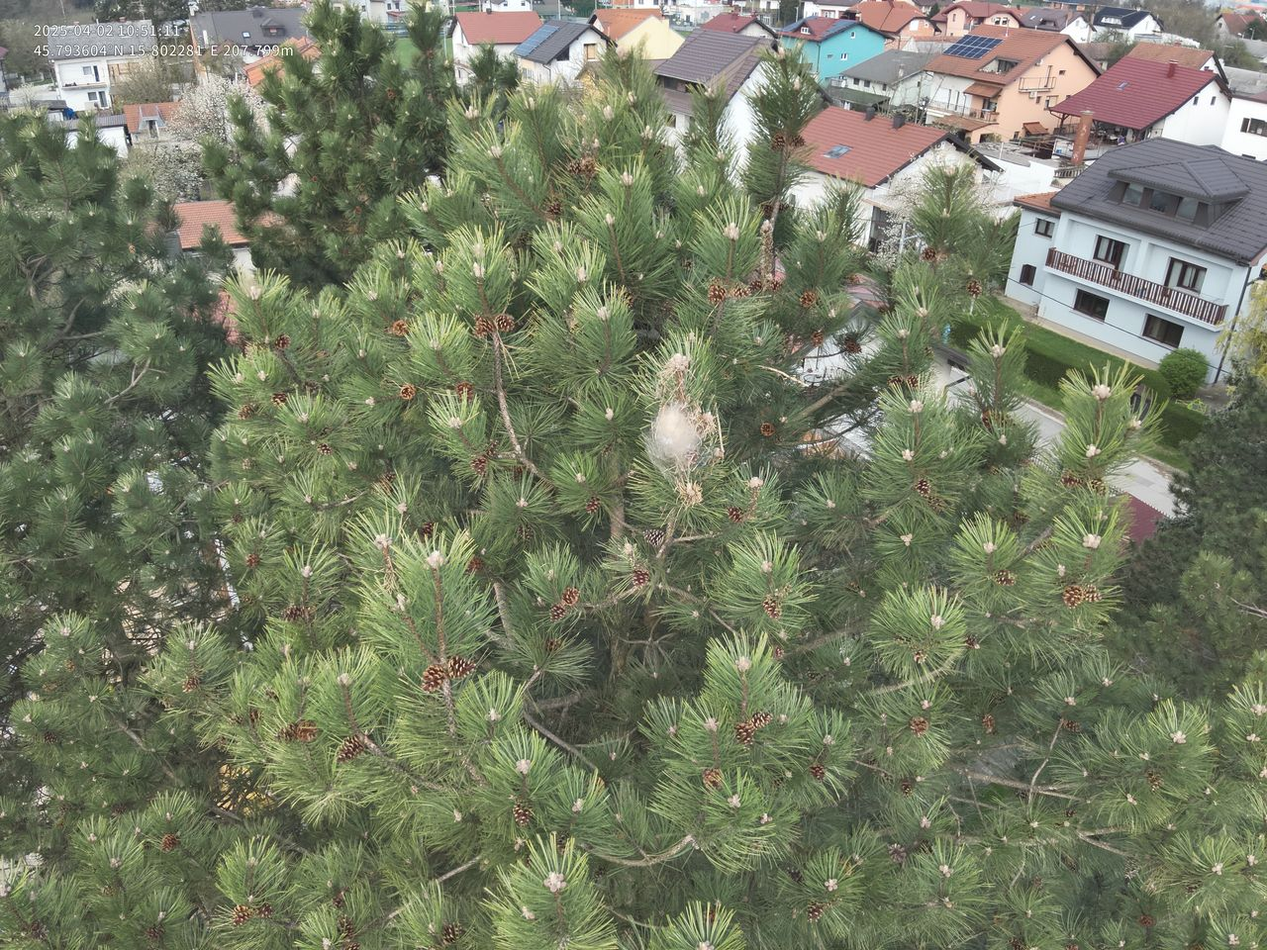thaumatopoea pityocampa jajno gnijezdo: (643, 385, 717, 485)
